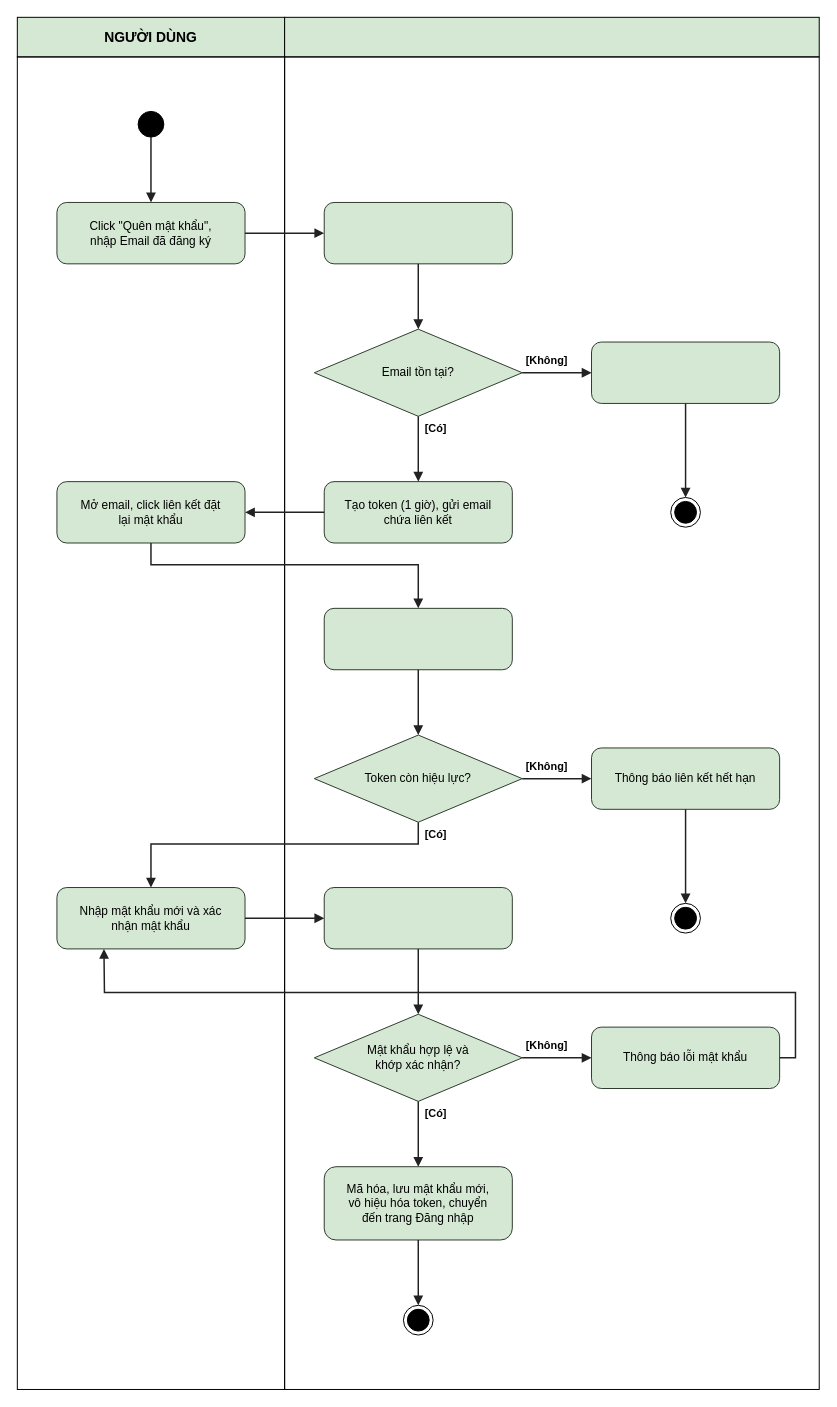
This 837x1407 diagram has some shape labels left out. The box of each missing label's shape, as (x1, y1, x2, y2) in pixels:
Hiển thị thông báo chung, không gửi email: (591, 341, 780, 403)
HỆ THỐNG: (284, 16, 819, 57)
Kiểm tra Email có tồn tại: (323, 201, 512, 264)
Kiểm tra mật khẩu mới: (323, 887, 512, 949)
Kiểm tra token: (323, 607, 512, 670)
